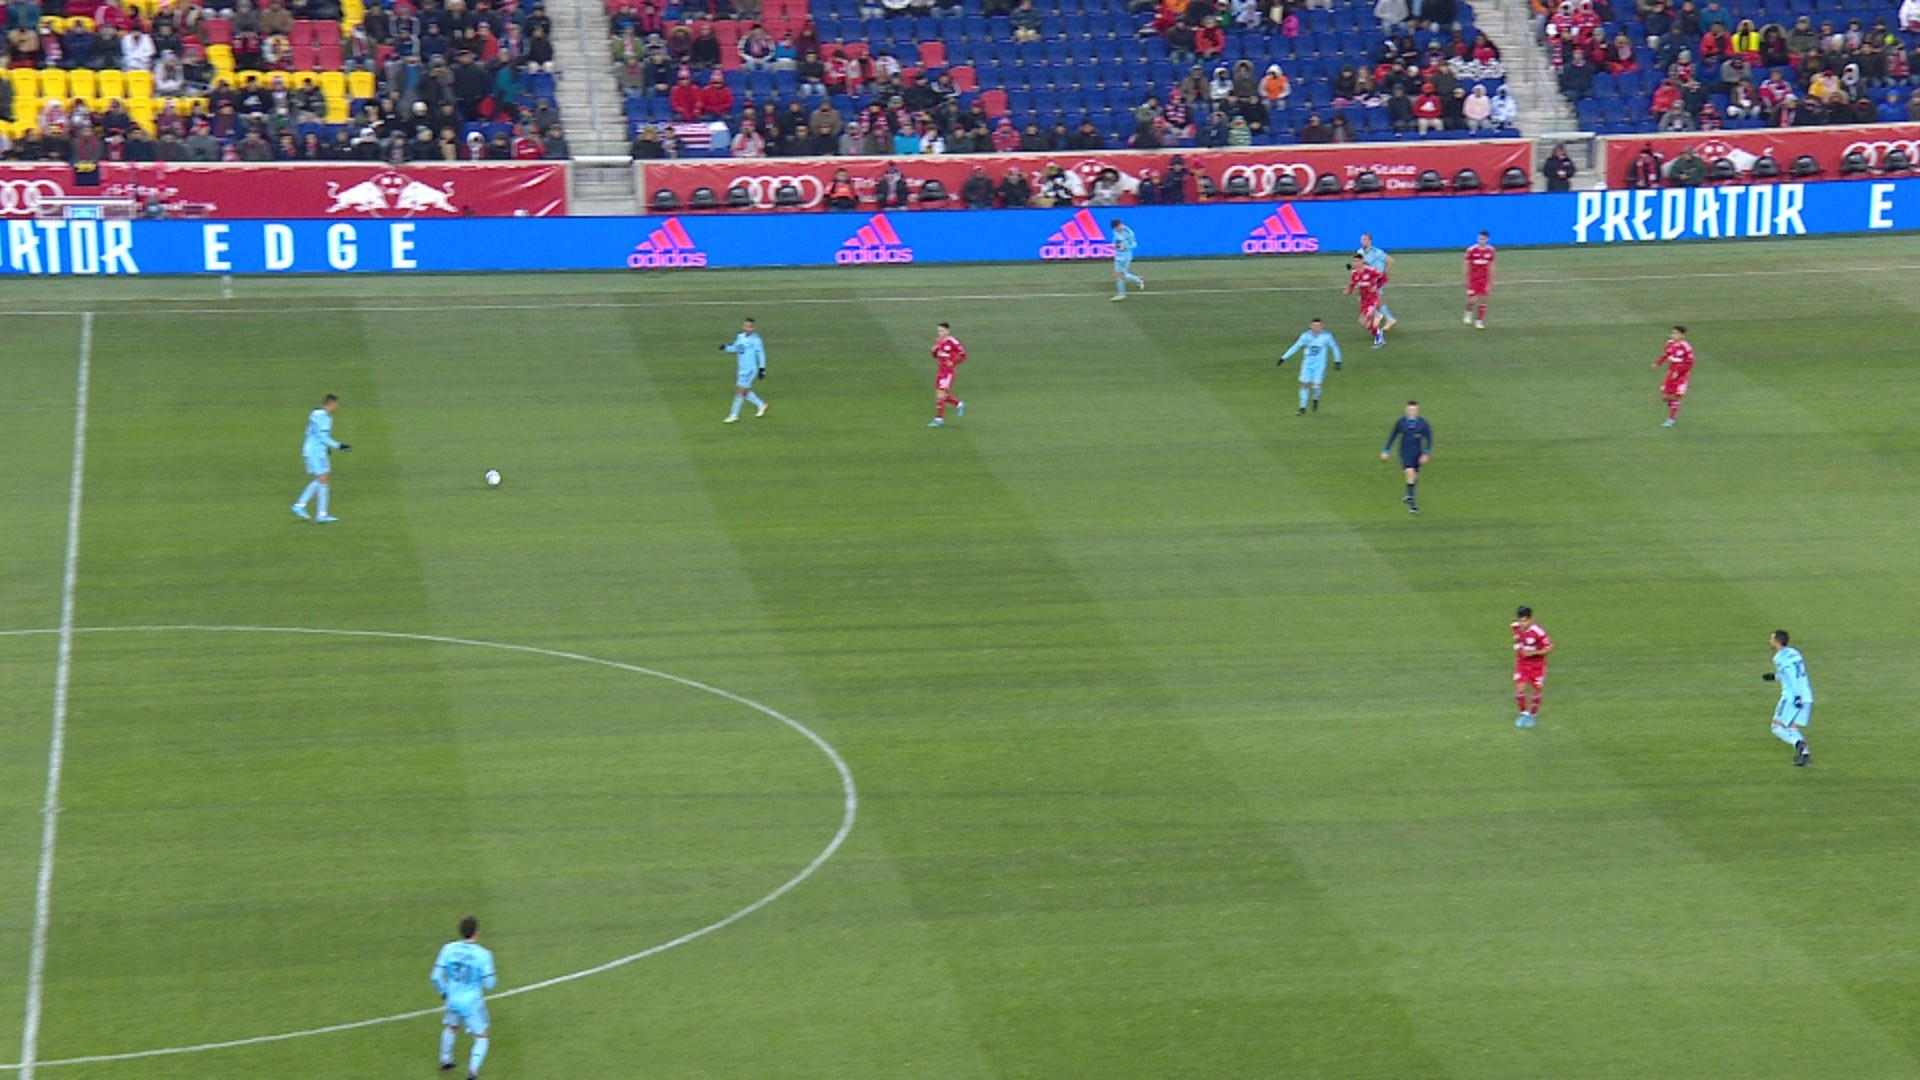football: (484, 467, 502, 488)
